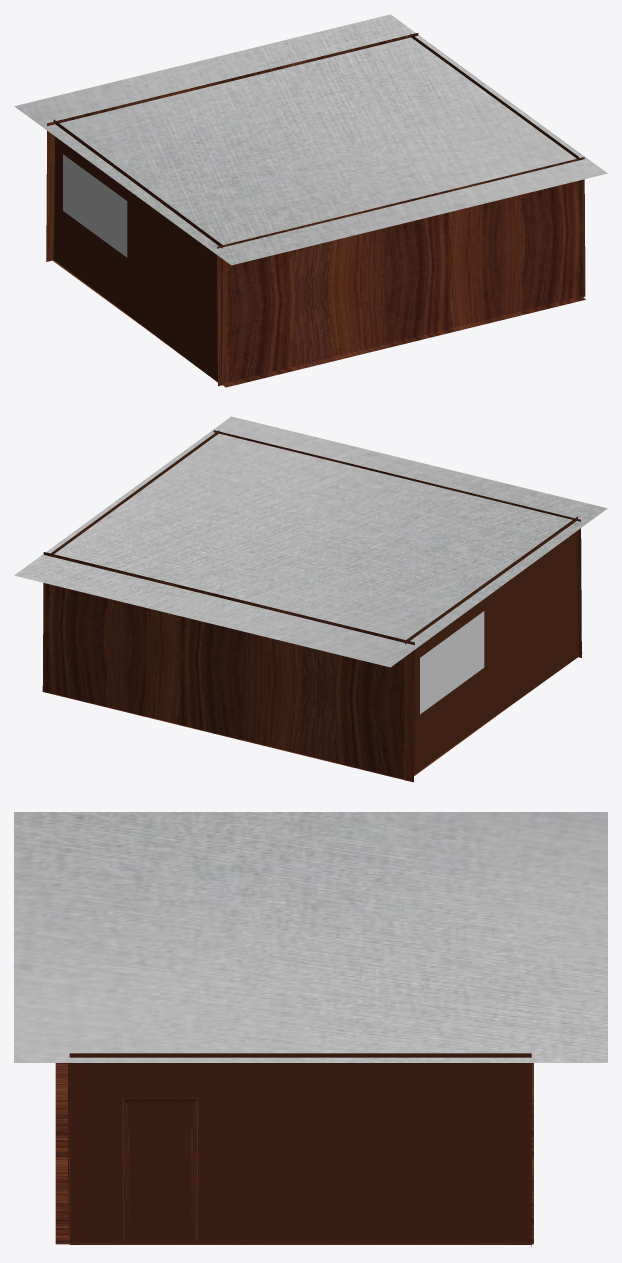
The picture shows the model from 3 angles, top to bottom: view 1: azimuth 30°, elevation 25°; view 2: azimuth 150°, elevation 25°; view 3: azimuth 270°, elevation 25°; orthographic projection. The views are drawn at different scales.
Visible parts, largest first — view 1: roof, wall 3, wall1, glassWindow, wall 4, nen, wall2; view 2: roof, wall 4, wall1, glassWindow, wall 3, nen, wall2; view 3: roof, wall2, nen, door.
Part boxes in pixels (<box>): roof: <box>14,14,607,265</box>; wall 3: <box>217,157,585,386</box>; wall1: <box>53,119,222,384</box>; glassWindow: <box>63,154,127,257</box>; wall 4: <box>46,33,418,261</box>; nen: <box>52,259,585,387</box>; wall2: <box>410,34,579,198</box>; roof: <box>14,416,607,667</box>; wall 4: <box>42,552,414,782</box>; wall1: <box>405,516,578,780</box>; glassWindow: <box>420,611,484,714</box>; wall 3: <box>213,430,581,657</box>; nen: <box>48,652,582,780</box>; wall2: <box>50,430,219,658</box>; roof: <box>14,812,607,1062</box>; wall2: <box>69,1053,531,1244</box>; nen: <box>55,1063,533,1244</box>; door: <box>122,1098,197,1240</box>.
Size of the model in its own units: 156 by 55.86 by 156.
Materials: 12 (5 with a texture image).
